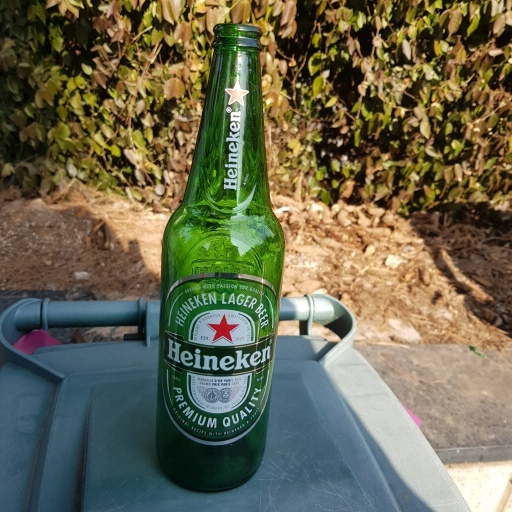Glass_1: (150, 18, 291, 497)
